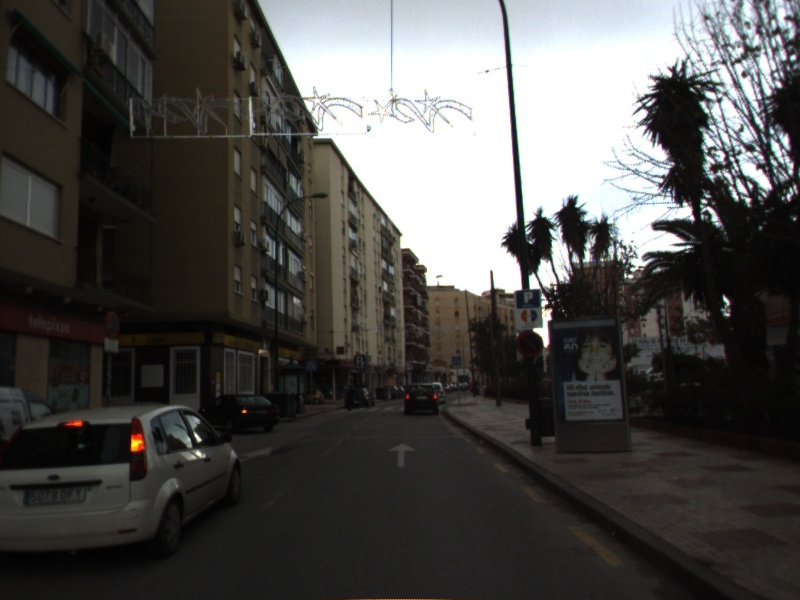STRAIGHT: (385, 441, 420, 469)
